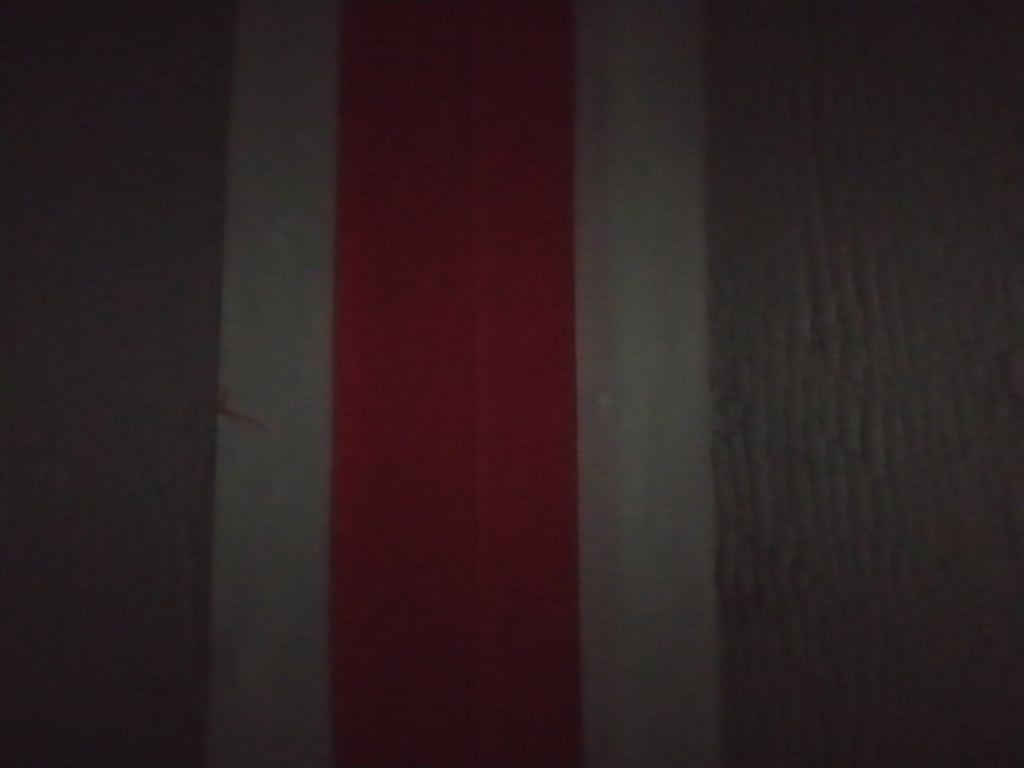reta: (211, 10, 727, 768)
